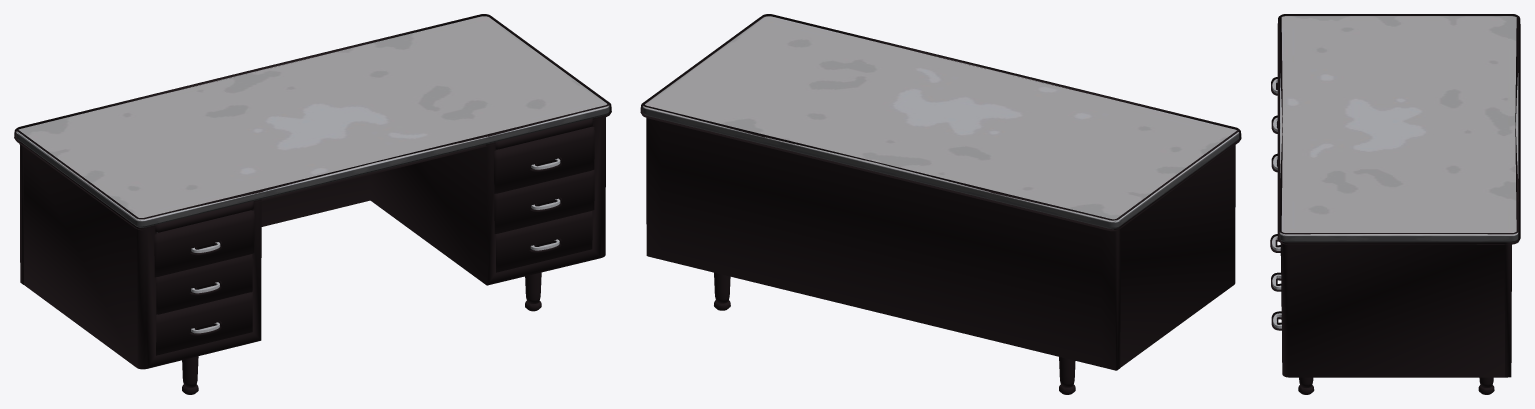
Rendered from SM_Int_OfficeDesk.fbx.
The picture shows the model from 3 angles, left to right: view 1: azimuth 30°, elevation 25°; view 2: azimuth 150°, elevation 25°; view 3: azimuth 270°, elevation 25°; orthographic projection. The views are drawn at different scales.
Visible parts, largest first — view 1: SM_Int_OfficeDesk; view 2: SM_Int_OfficeDesk; view 3: SM_Int_OfficeDesk.
Part boxes in pixels (x1,y1,x2,y2): SM_Int_OfficeDesk: (14,14,611,394); SM_Int_OfficeDesk: (640,14,1241,394); SM_Int_OfficeDesk: (1270,14,1520,394).
Size of what is drawn, in the model's own units: 1.95 by 0.776 by 0.9276.
